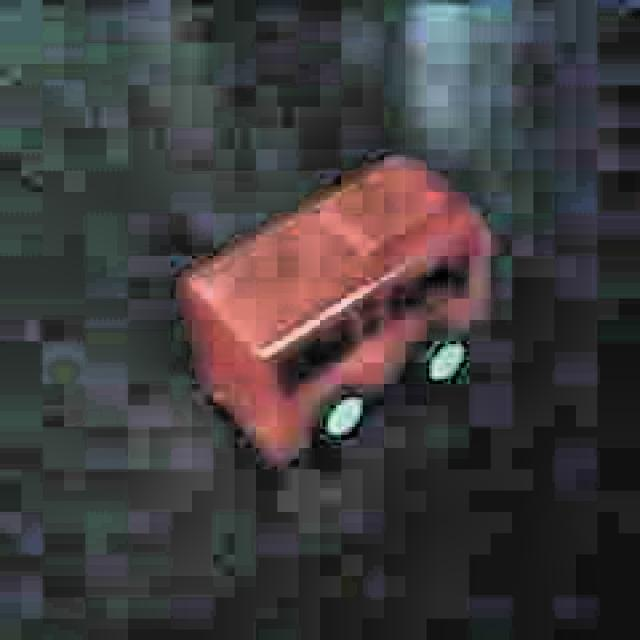bus: (179, 146, 502, 477)
